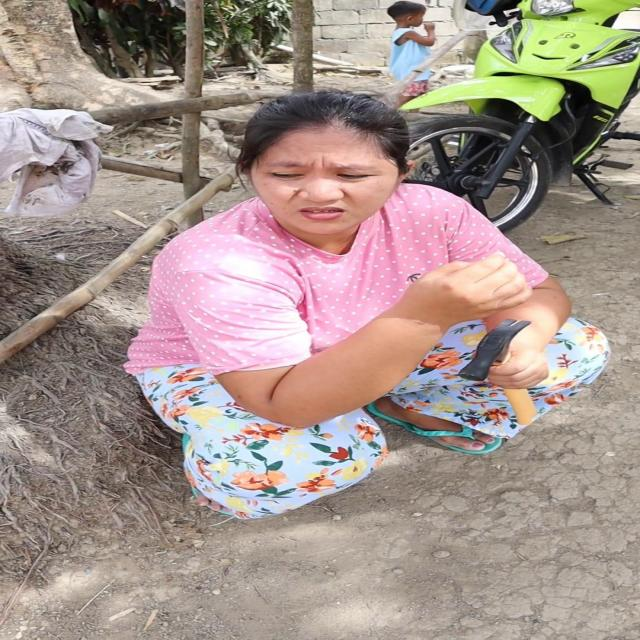hammer: (458, 318, 537, 424)
